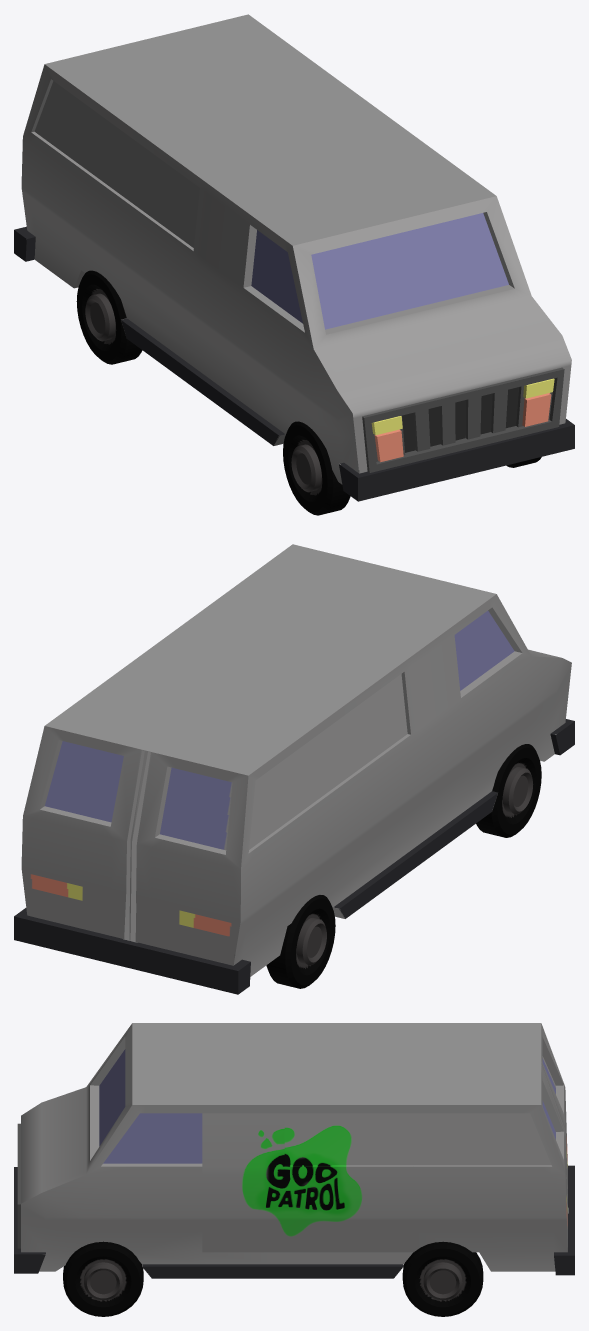
The model's file is van.fbx.
3 views of the same model, one above another, from view 1: azimuth 30°, elevation 25°; view 2: azimuth 150°, elevation 25°; view 3: azimuth 270°, elevation 25° (orthographic). The views are drawn at different scales.
Parts seen in each view (by area): view 1: Cube.008, Cylinder.001, Cylinder; view 2: Cube.008, Cylinder, Cylinder.001; view 3: Cube.008, Cube.009, Cylinder, Cylinder.001.
Boxes of the visible parts, bbox=[...] form: Cube.008: bbox=[14, 14, 574, 501]; Cylinder.001: bbox=[283, 421, 541, 515]; Cylinder: bbox=[76, 270, 142, 364]; Cube.008: bbox=[14, 544, 574, 994]; Cylinder: bbox=[266, 895, 335, 988]; Cylinder.001: bbox=[476, 744, 541, 837]; Cube.008: bbox=[14, 1023, 574, 1278]; Cube.009: bbox=[202, 1113, 413, 1252]; Cylinder: bbox=[402, 1241, 483, 1316]; Cylinder.001: bbox=[63, 1241, 143, 1316].
Bounding box in the file's own units: 187 × 196 × 478.
Materials: 2 (2 with a texture image).
